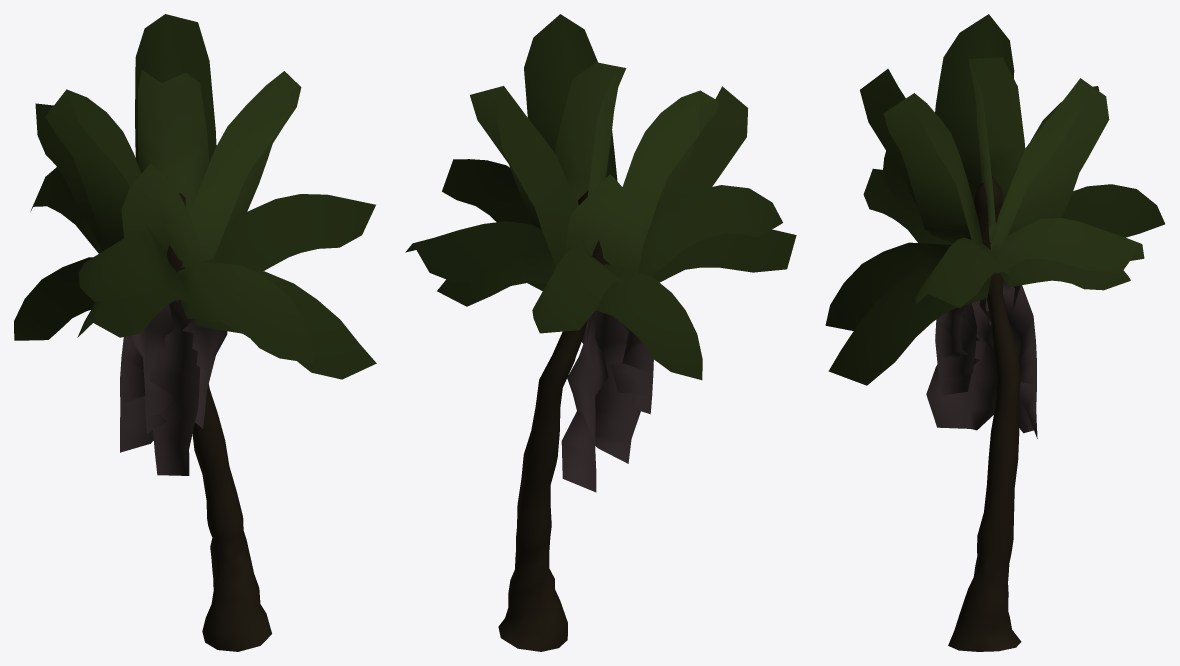
Rendered from palm01_small.glb.
3 renders of one model, left to right at view 1: azimuth 30°, elevation 25°; view 2: azimuth 150°, elevation 25°; view 3: azimuth 270°, elevation 25°, orthographic. The views are drawn at different scales.
Parts seen in each view (by area): view 1: palm01_small_LOD0; view 2: palm01_small_LOD0; view 3: palm01_small_LOD0.
Boxes of the visible parts, box(x1,y1,x2,y2) form: palm01_small_LOD0: box(14, 14, 376, 651); palm01_small_LOD0: box(405, 14, 796, 651); palm01_small_LOD0: box(825, 14, 1164, 651).
Size of what is drawn, in the model's own units: 4.25 by 7.62 by 4.19.
